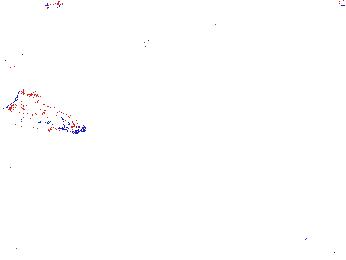red belly glassfish: (28, 1, 65, 12), (141, 36, 154, 53)
redtail glassfish: (4, 86, 88, 137), (1, 52, 26, 75)
siberian prawn: (1, 239, 94, 260)
